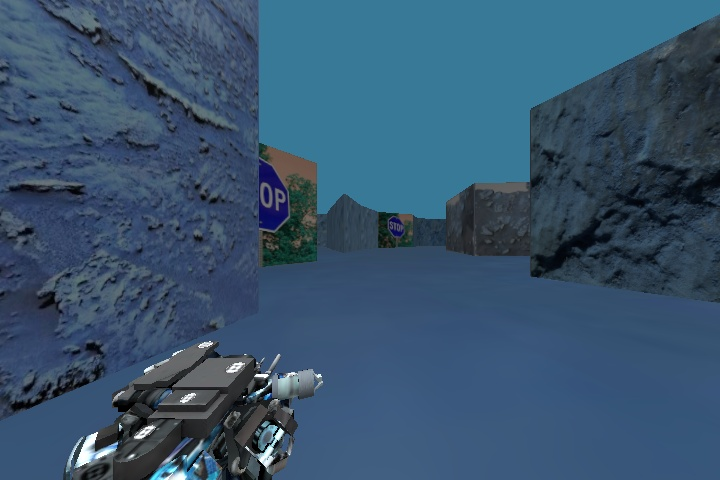stop_sign: (247, 147, 294, 238), (382, 213, 409, 241)
